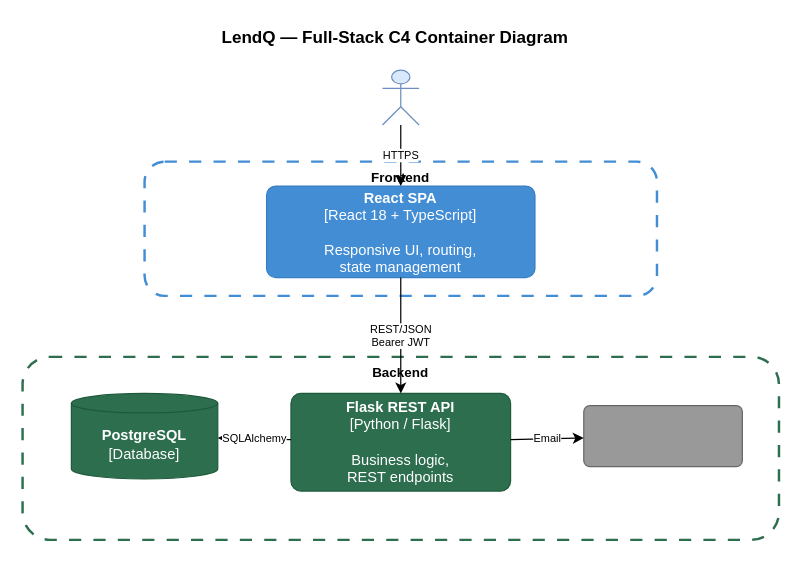
This 800x561 diagram has some shape labels left out. Each missing label, with the centre of its shape:
SMTP Server [External]: the point at 662,435
User: the point at 400,97
